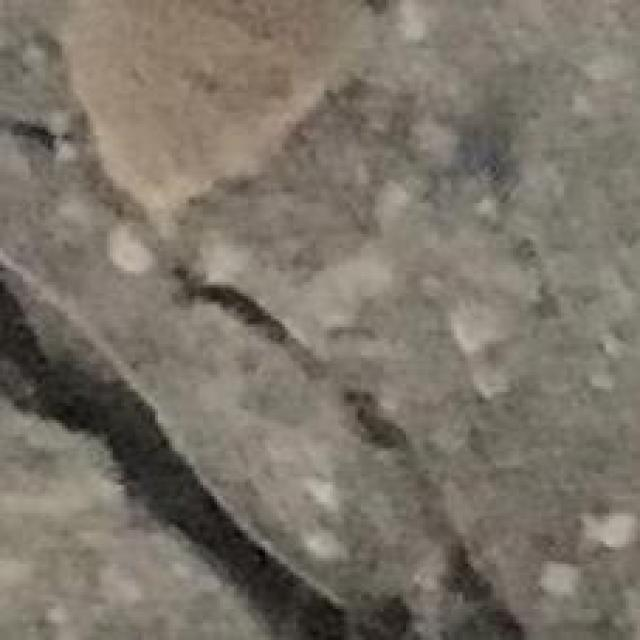Crack: (0, 256, 414, 637), (166, 265, 522, 637), (0, 112, 59, 146)
